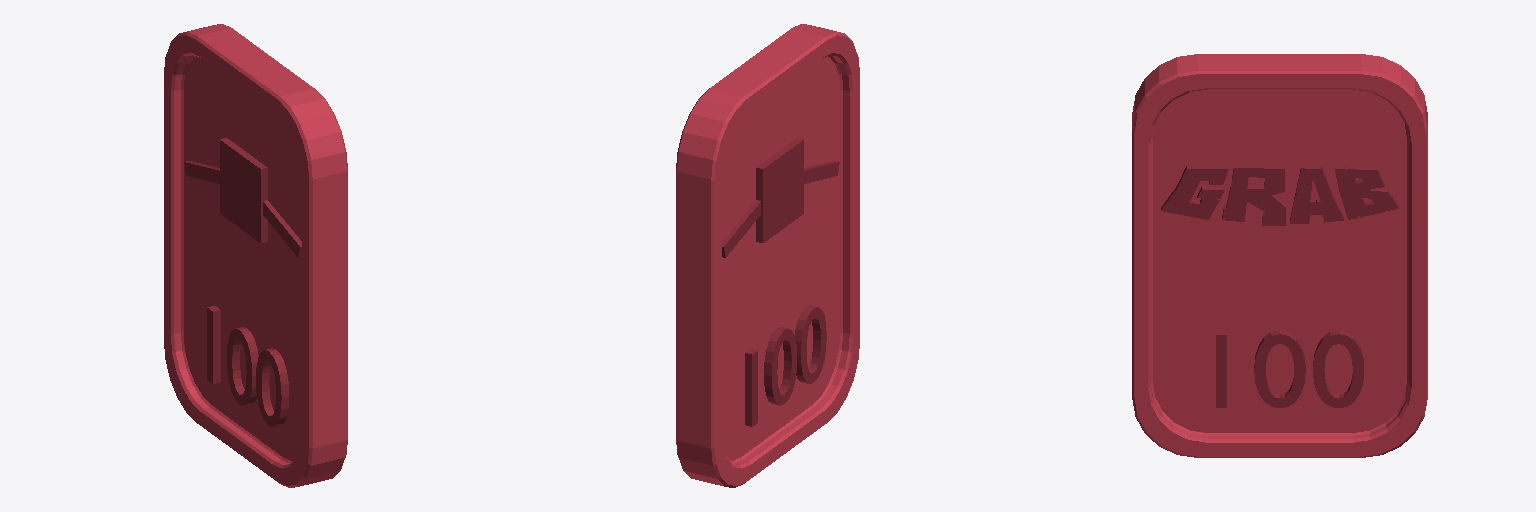
The model's file is currency_100.obj.
The picture shows the model from 3 angles: view 1: azimuth 30°, elevation 25°; view 2: azimuth 150°, elevation 25°; view 3: azimuth 270°, elevation 25°; orthographic projection.
Parts seen in each view (by area): view 1: 0, 1; view 2: 0, 1; view 3: 0, 1.
Boxes of the visible parts, <box> form: 0: <box>164,24,347,487</box>; 1: <box>184,138,301,426</box>; 0: <box>676,24,859,487</box>; 1: <box>722,138,839,426</box>; 0: <box>1132,54,1427,457</box>; 1: <box>1161,164,1399,407</box>.
Size of the model in its own units: 0.0152 by 0.1447 by 0.1.